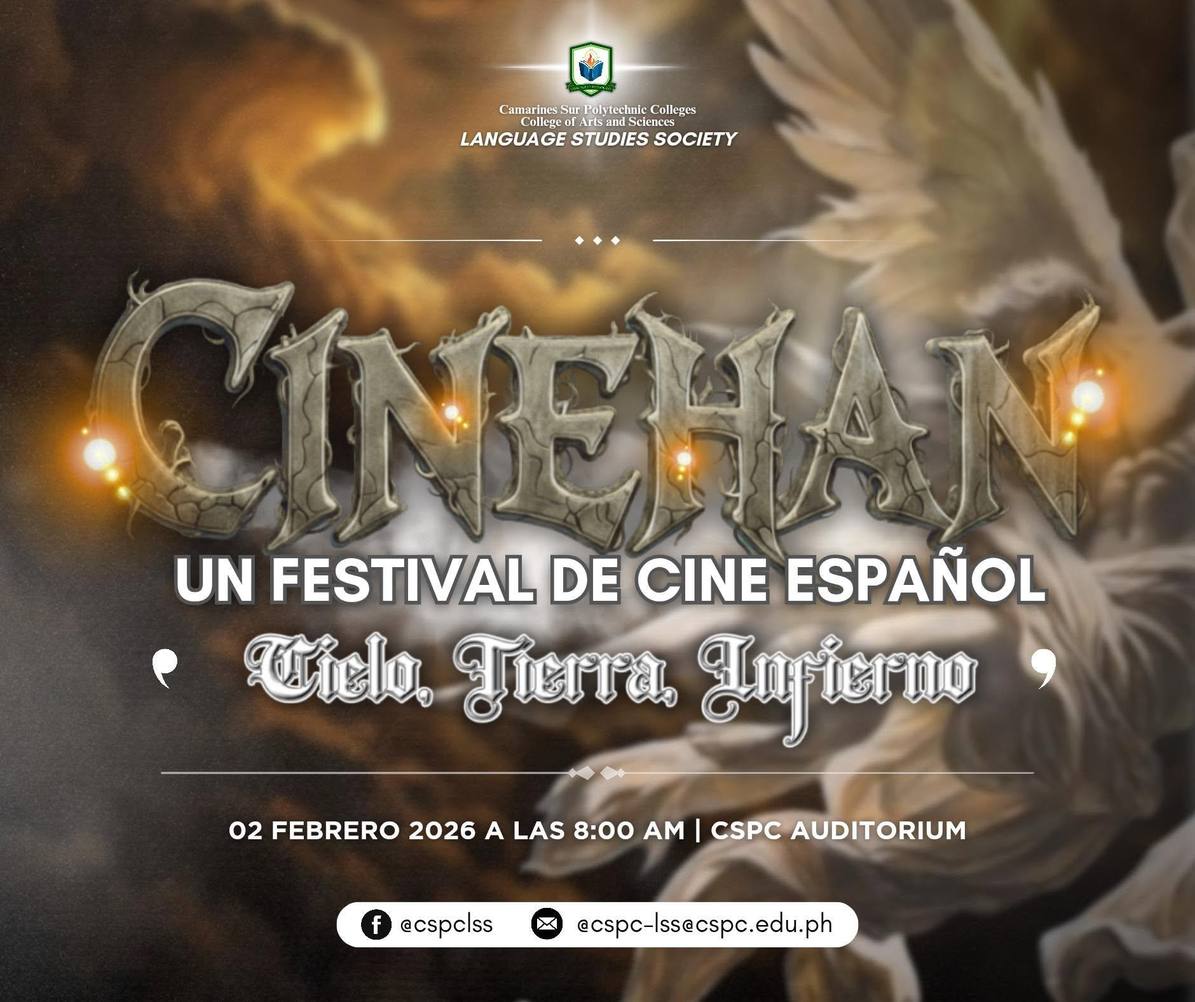embellishment: (159, 759, 1042, 784), (310, 230, 884, 250), (1042, 353, 1130, 447), (67, 416, 142, 507), (665, 430, 709, 488), (435, 390, 475, 436), (356, 904, 395, 943), (528, 904, 567, 942)
logo: (227, 810, 977, 846), (563, 37, 621, 102)
text: (76, 259, 1119, 551), (144, 621, 1070, 752), (170, 543, 1062, 612), (456, 101, 743, 151), (575, 908, 836, 940), (399, 908, 502, 939)
underlay: (338, 901, 860, 948)
